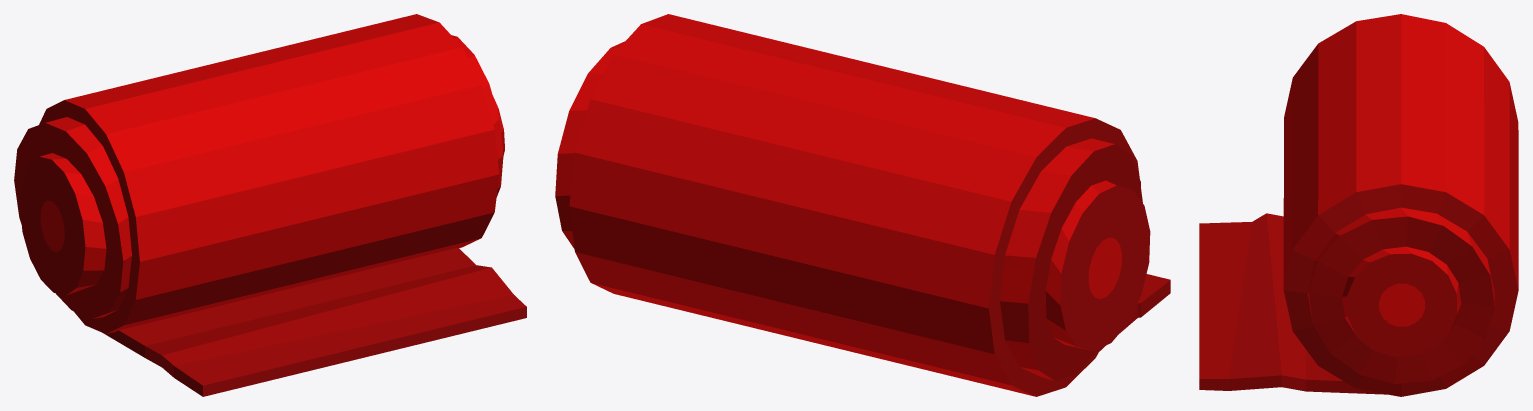
Rendered from Trash Bag Roll.fbx.
3 views of the same model, side by side, from view 1: azimuth 30°, elevation 25°; view 2: azimuth 150°, elevation 25°; view 3: azimuth 270°, elevation 25° (orthographic). The views are drawn at different scales.
Parts seen in each view (by area): view 1: TrashBag; view 2: TrashBag; view 3: TrashBag.
Part boxes in pixels (bbox=[...]): TrashBag: bbox=[14, 14, 526, 396]; TrashBag: bbox=[555, 14, 1170, 396]; TrashBag: bbox=[1199, 14, 1518, 396].
Size of the model in its own units: 36.99 by 17.81 by 24.16.
